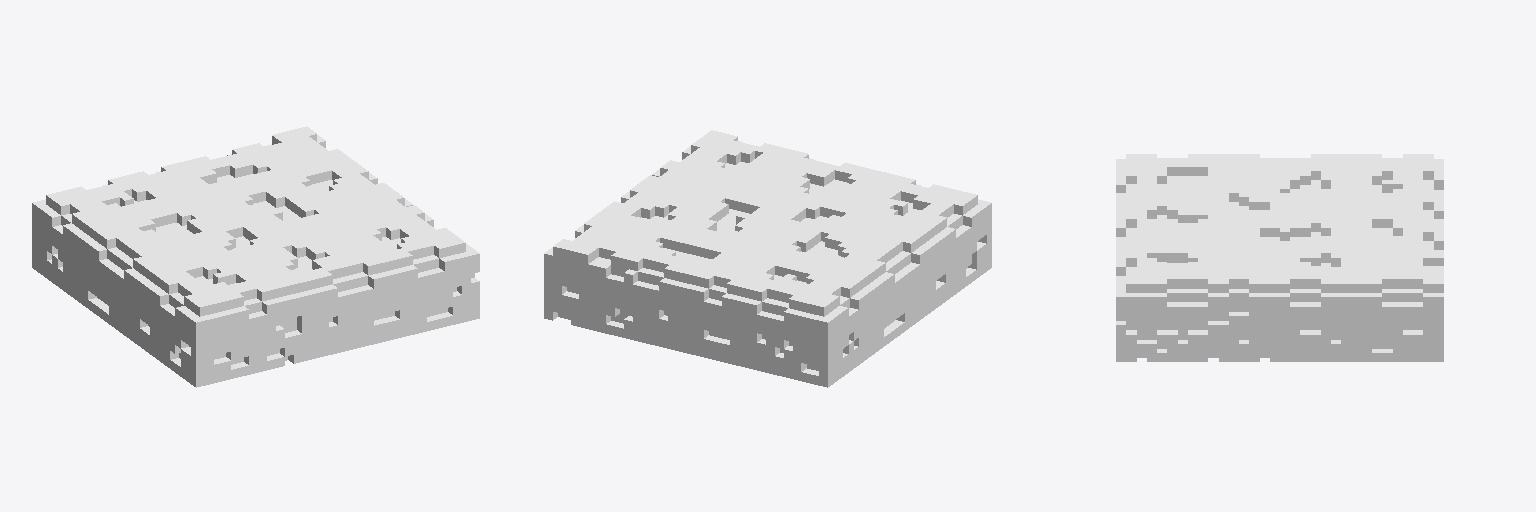
Rendered from dirtTile.obj.
3 views of the same model, side by side, from view 1: azimuth 30°, elevation 25°; view 2: azimuth 150°, elevation 25°; view 3: azimuth 270°, elevation 25° (orthographic).
Parts seen in each view (by area): view 1: object 1; view 2: object 1; view 3: object 1.
Boxes of the visible parts, <box> form: object 1: <box>32,126,479,387</box>; object 1: <box>544,130,991,387</box>; object 1: <box>1116,154,1443,361</box>.
Size of the model in its own units: 3.2 by 0.8 by 3.2.